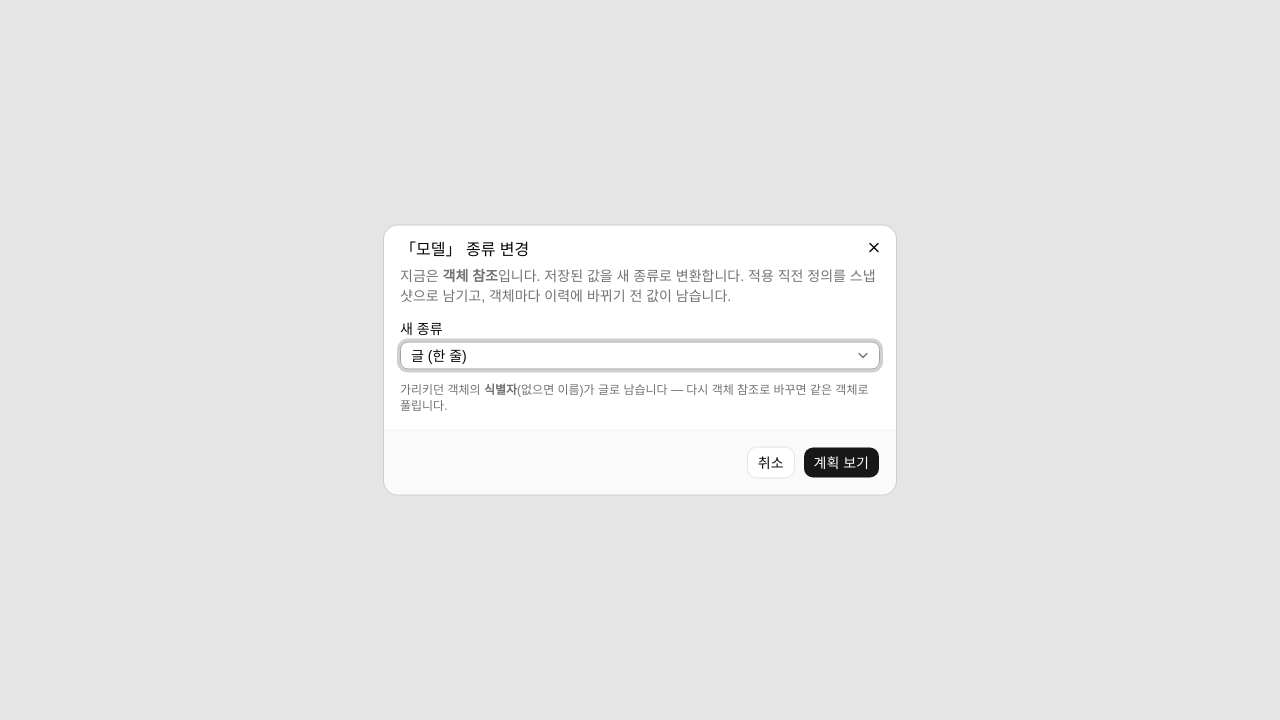
Test: 종류 변경 창 › 참조는 글로 가고, 가리키던 객체의 식별자가 남는다고 말한다
This screenshot has width=1280, height=720.
Check: the text "가리키던 객체의 식별자(없으면 이름)가 글로 남습니다 — 다시 객체 참조로 바꾸면 같은 객체로 풀립니다." is shown, box [400, 382, 880, 414]
Step 1. Click the button "계획 보기" → (841, 462), box [803, 446, 880, 478]
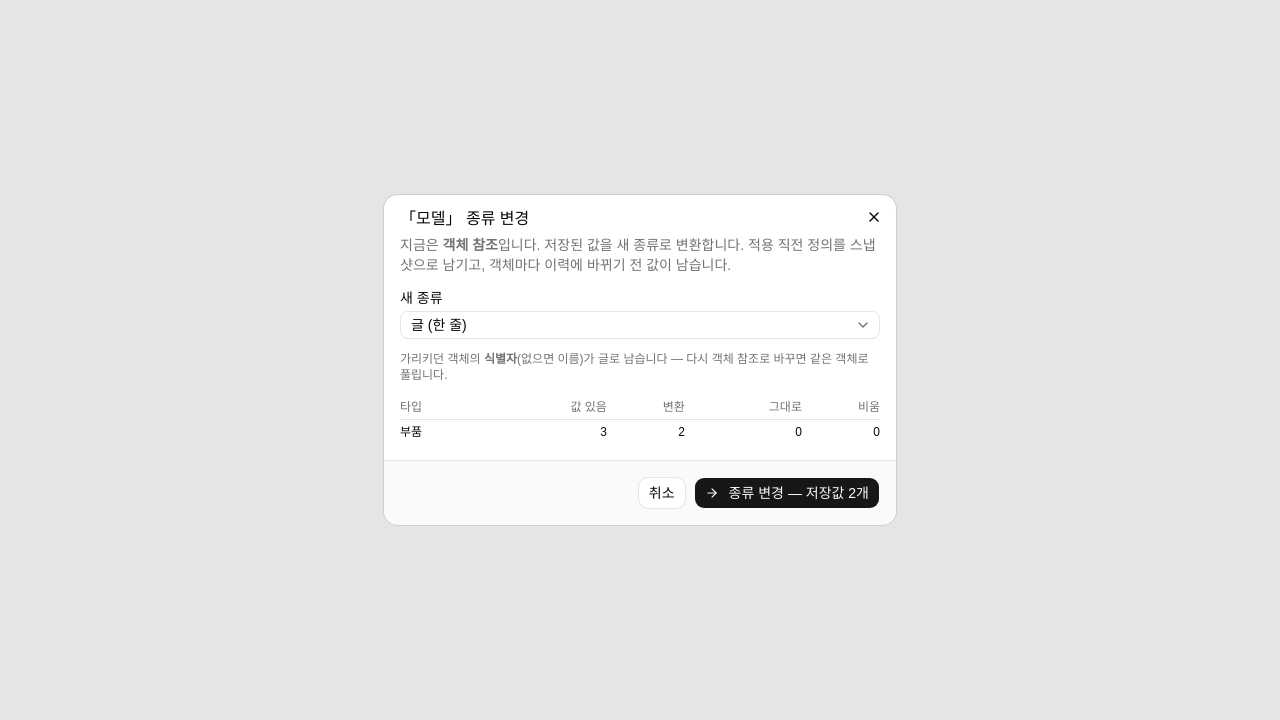
Step 2. Click the dropdown → (439, 325), box [400, 311, 880, 339]
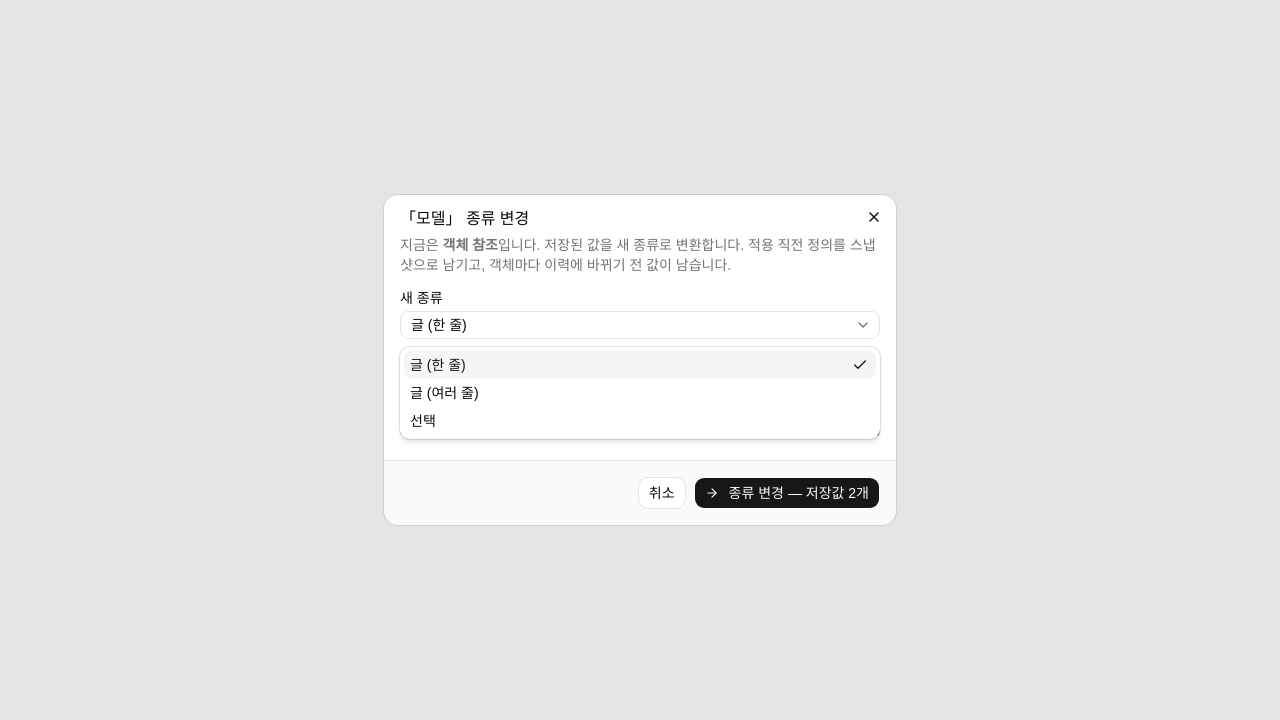
Check: the options read "글 (한 줄)", "글 (여러 줄)", "선택", in this order, box [404, 351, 876, 379]; [410, 385, 479, 401]; [410, 413, 436, 429]
